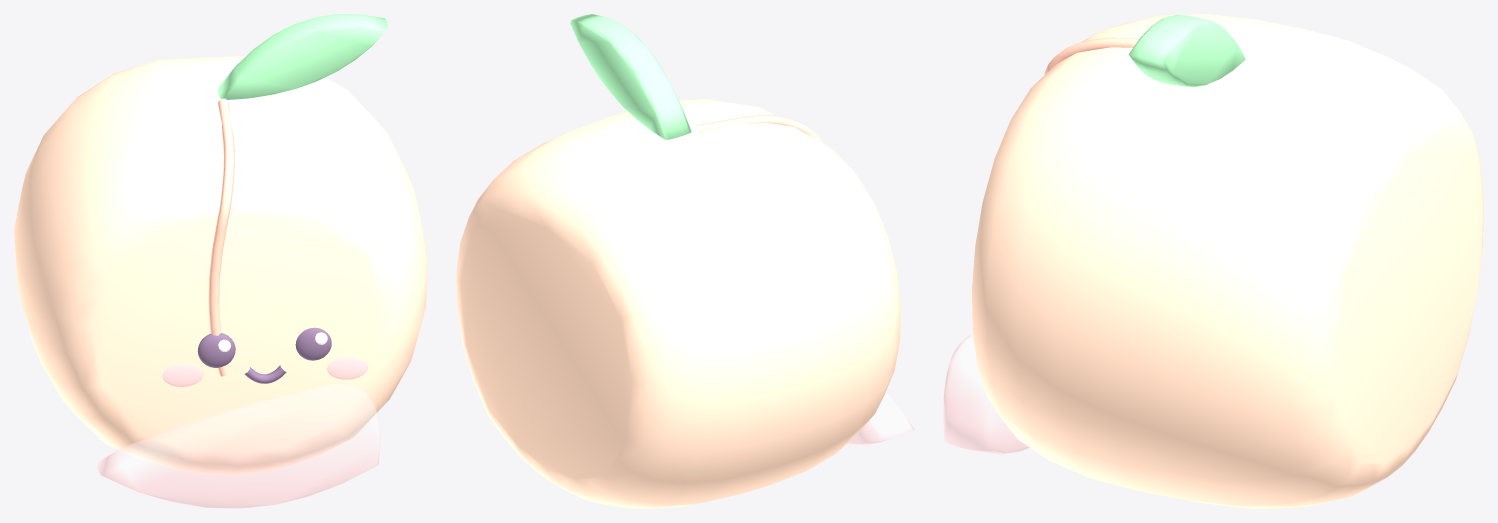
Rendered from life_peach.glb.
The picture shows the model from 3 angles, left to right: view 1: azimuth 30°, elevation 25°; view 2: azimuth 150°, elevation 25°; view 3: azimuth 270°, elevation 25°; orthographic projection. The views are drawn at different scales.
Visible parts, largest first — view 1: wrap_peach_1, object 2, object 4; view 2: wrap_peach_1; view 3: wrap_peach_1.
Boxes of the visible parts, x1,y1,x2,y2 form: wrap_peach_1: (14,14,427,508); object 2: (197,333,235,367); object 4: (295,327,331,360); wrap_peach_1: (456,14,914,508); wrap_peach_1: (943,14,1483,508).
Bounding box in the file's own units: 2.04 × 2.12 × 2.06.
